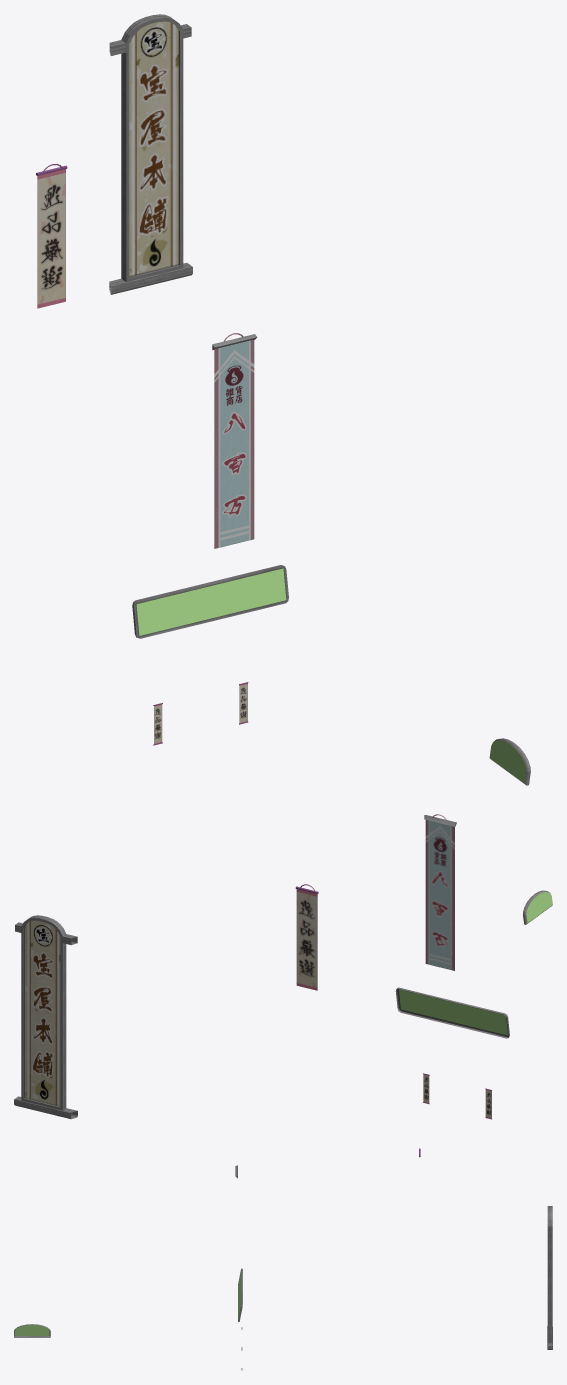
The model's file is SM_ENV_KNVLLG_Signs_8.mo.fbx.
3 views of the same model, one above another, from view 1: azimuth 30°, elevation 25°; view 2: azimuth 150°, elevation 25°; view 3: azimuth 270°, elevation 25° (orthographic). The views are drawn at different scales.
Parts seen in each view (by area): view 1: SM_ENV_KNVLLG_Signs_8.mo; view 2: SM_ENV_KNVLLG_Signs_8.mo; view 3: SM_ENV_KNVLLG_Signs_8.mo.
Boxes of the visible parts, box(x1,y1,x2,y2) form: SM_ENV_KNVLLG_Signs_8.mo: box(36, 14, 530, 785); SM_ENV_KNVLLG_Signs_8.mo: box(14, 814, 552, 1119); SM_ENV_KNVLLG_Signs_8.mo: box(14, 1148, 552, 1370).
Bounding box in the file's own units: 12.83 × 14.53 × 32.75.
